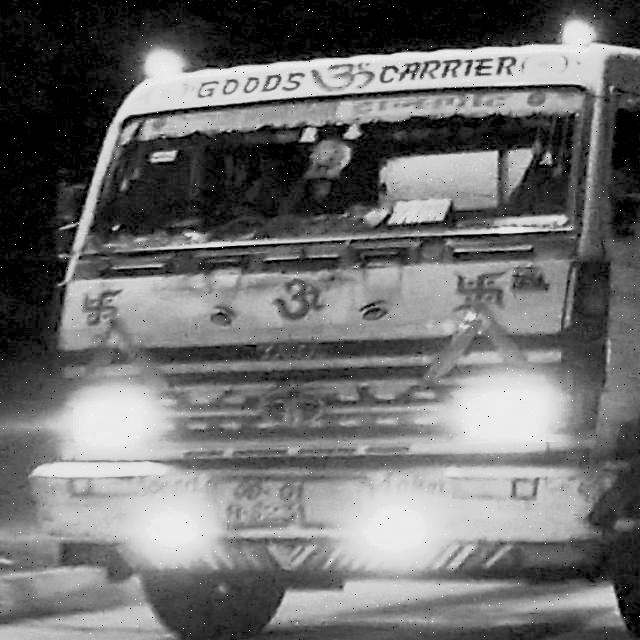HCV: (67, 54, 639, 638)
